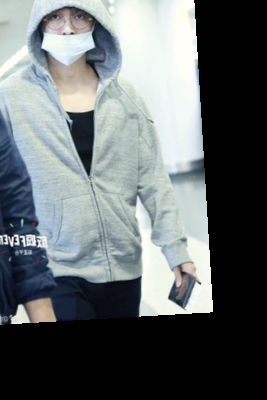mask_weared_incorrect: (14, 1, 121, 69)
